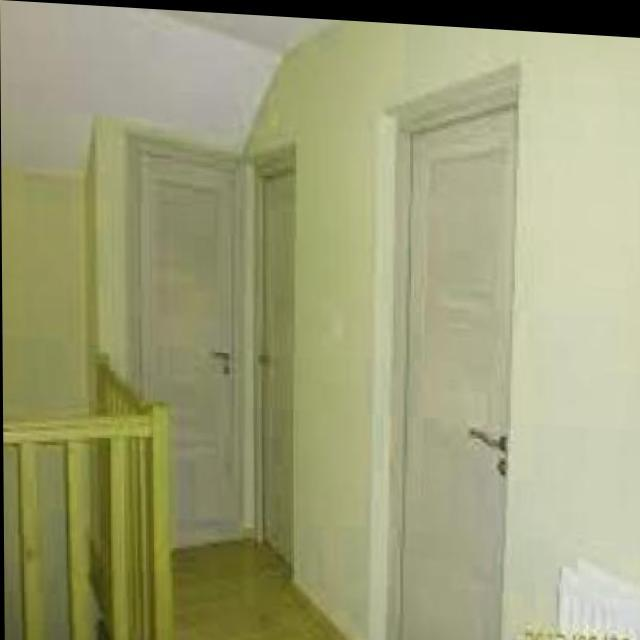door_handle: (458, 418, 511, 451)
